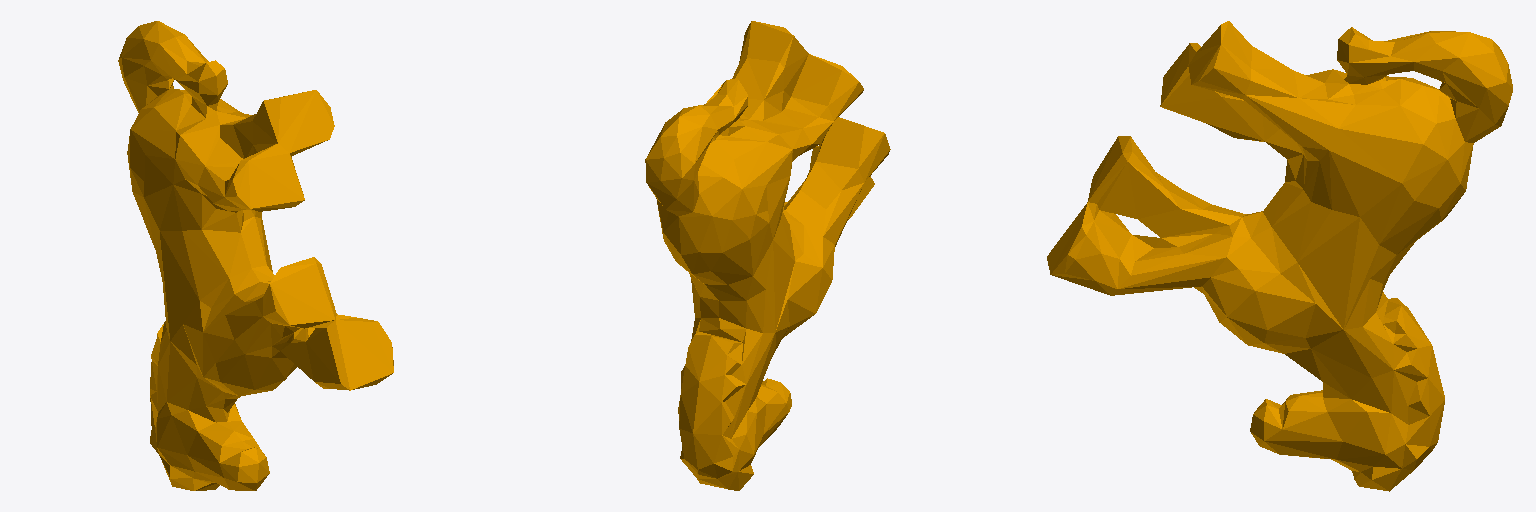
URDF robot description (Pony_800_tex):
<?xml version="1.0"?>
<robot name="Pony_800_tex">
  <link name="base_link">
    <contact>
      <lateral_friction value="1.0"/>
      <rolling_friction value="0.0"/>
      <contact_cfm value="0.0"/>
      <contact_erp value="1.0"/>
    </contact>
    <inertial>
      <mass value="0.00480262420188"/>
      <inertia ixx="1" ixy="0" ixz="0" iyy="1" iyz="0" izz="1"/>
    </inertial>
    <visual>
      <geometry>
        <mesh filename="Pony_800_tex_visual.obj"/>
      </geometry>
    </visual>
    <collision>
      <geometry>
        <mesh filename="Pony_800_tex_collision.obj"/>
      </geometry>
    </collision>
  </link>
</robot>

--- Facts derived from the render (not from the file) ---
Views: 3 orthographic renders of the robot side by side, from view 1: azimuth 30°, elevation 25°; view 2: azimuth 150°, elevation 25°; view 3: azimuth 270°, elevation 25°.
Model Pony_800_tex with 1 links and 0 joints (none), rooted at base_link, posed all joints at 0.
Links seen in each view (by area): view 1: base_link; view 2: base_link; view 3: base_link.
Link boxes in pixels (x1,y1,x2,y2): base_link: [118, 21, 393, 490]; base_link: [645, 21, 890, 490]; base_link: [1047, 21, 1512, 491].
Bounding box of the posed robot: 0.0131 × 0.045 × 0.0491 m (x, y, z).
1 mesh visuals loaded from 1 distinct referenced files (1 OBJ).